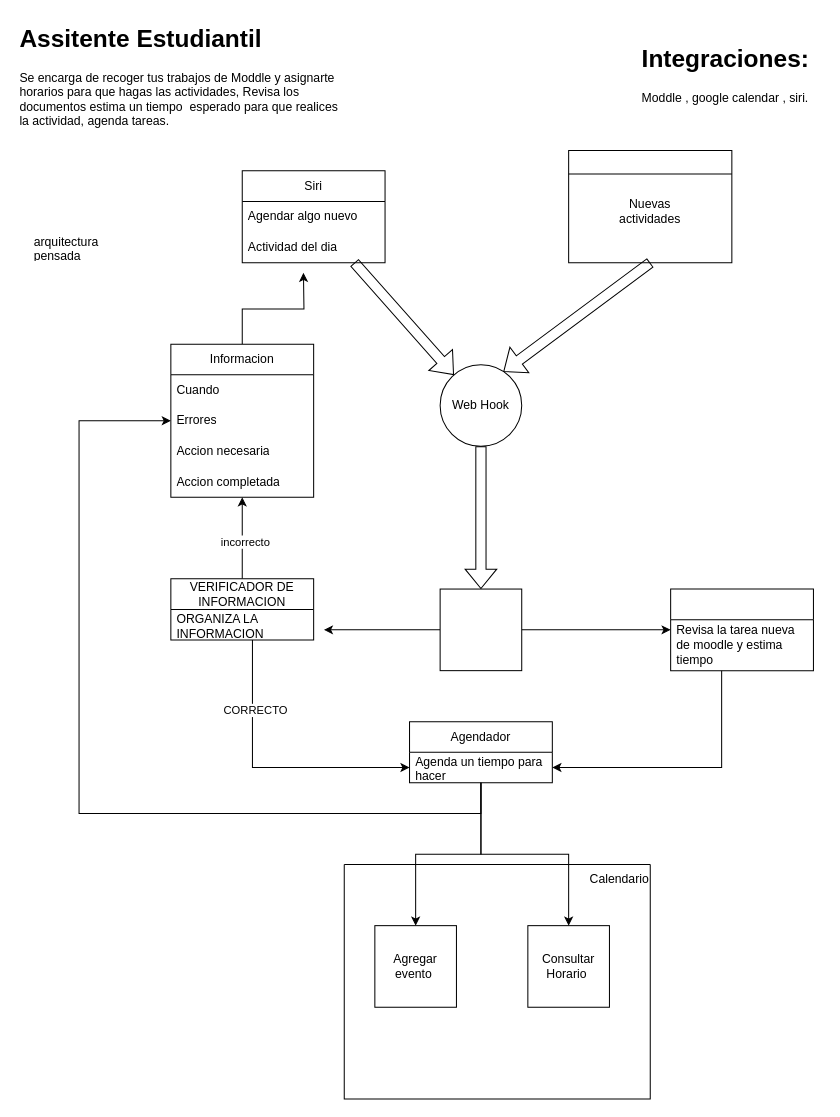
Some shapes in this 840 by 1117 pixel diagram are drawn without their labels. Here are the shapes that lost their labels. From the top down, the box of each, then its label:
(568, 149, 732, 263): Actualizaciones Modle
(439, 588, 522, 671): Enrutador
(670, 588, 813, 671): Moddle manager
